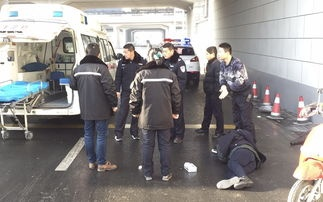falling: (209, 121, 269, 191)
